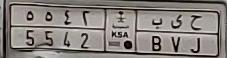2: (79, 10, 92, 51)
4: (63, 10, 73, 48)
5: (24, 10, 37, 47), (43, 11, 54, 47)
B: (150, 17, 164, 52)
J: (190, 14, 203, 54)
V: (170, 14, 183, 54)
